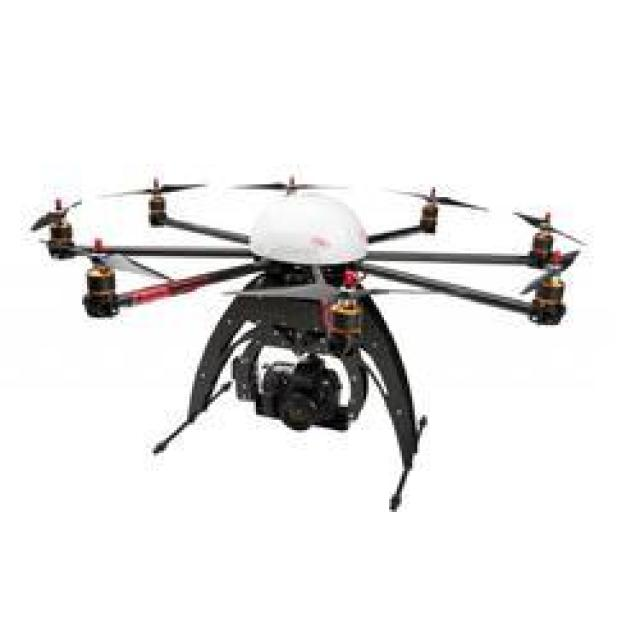drone: (40, 154, 592, 496)
